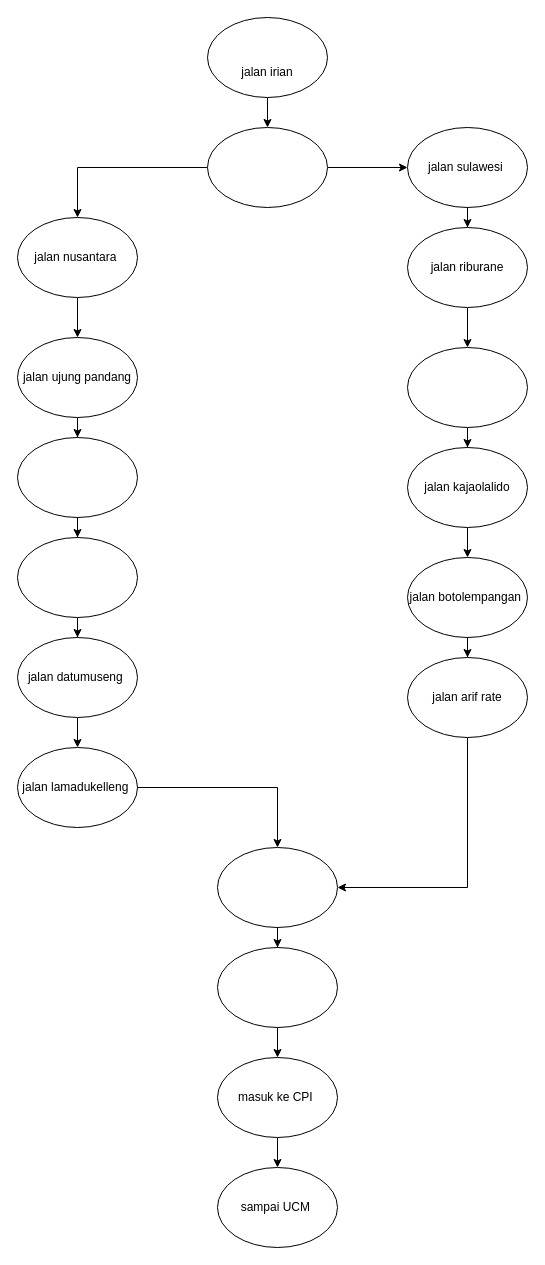
This 545x1265 diagram has some shape labels left out. The shapes that lost their labels are listed below. From the top down, each one's centre as x and y in pixels, then its label:
[267,167]: jalan timor
[467,387]: jalan ahmad yani
[77,477]: jalan patimura
[77,577]: jalan somba opu
[277,887]: jalan haji bau
[277,987]: jalan metro tanjung bunga
